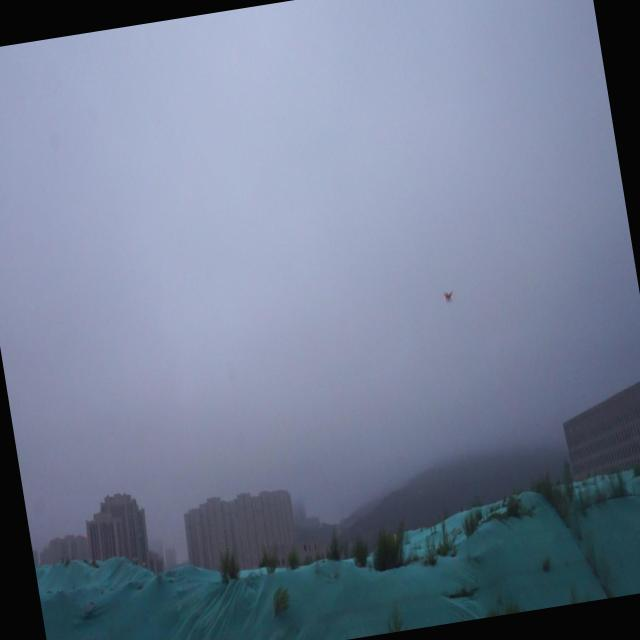drone: (440, 287, 458, 306)
